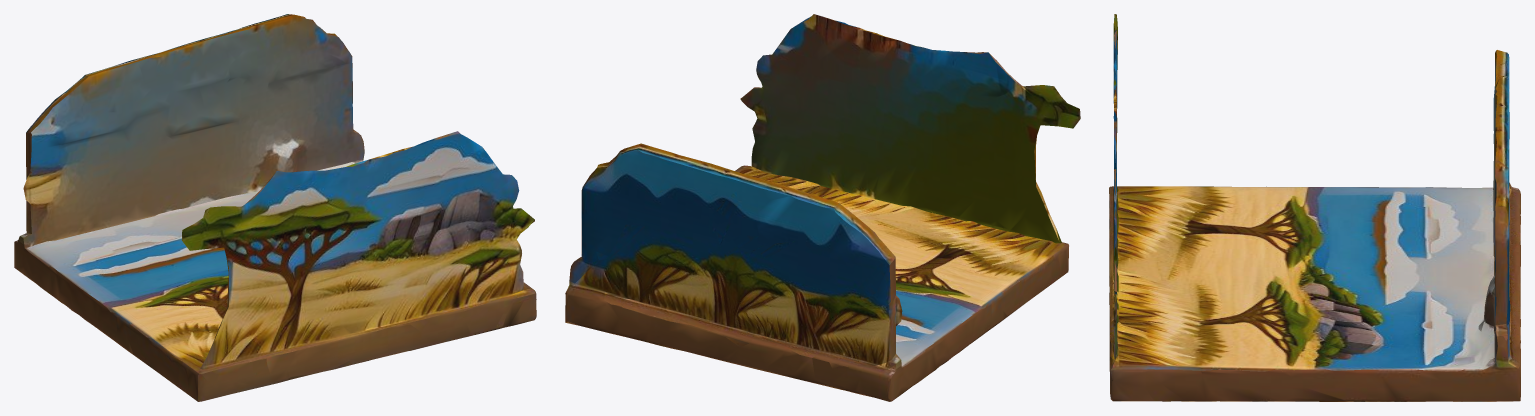
File: serengeti.glb
The picture shows the model from 3 angles, left to right: view 1: azimuth 30°, elevation 25°; view 2: azimuth 150°, elevation 25°; view 3: azimuth 270°, elevation 25°; orthographic projection. The views are drawn at different scales.
Visible parts, largest first — view 1: logan-textured.obj; view 2: logan-textured.obj; view 3: logan-textured.obj.
Part boxes in pixels (left/top/right/bottom): logan-textured.obj: left=14, top=14, right=536, bottom=401; logan-textured.obj: left=565, top=14, right=1080, bottom=401; logan-textured.obj: left=1109, top=14, right=1520, bottom=401.
Bounding box in the file's own units: 1 × 0.5711 × 0.9065.
1 material, 1 textured.
